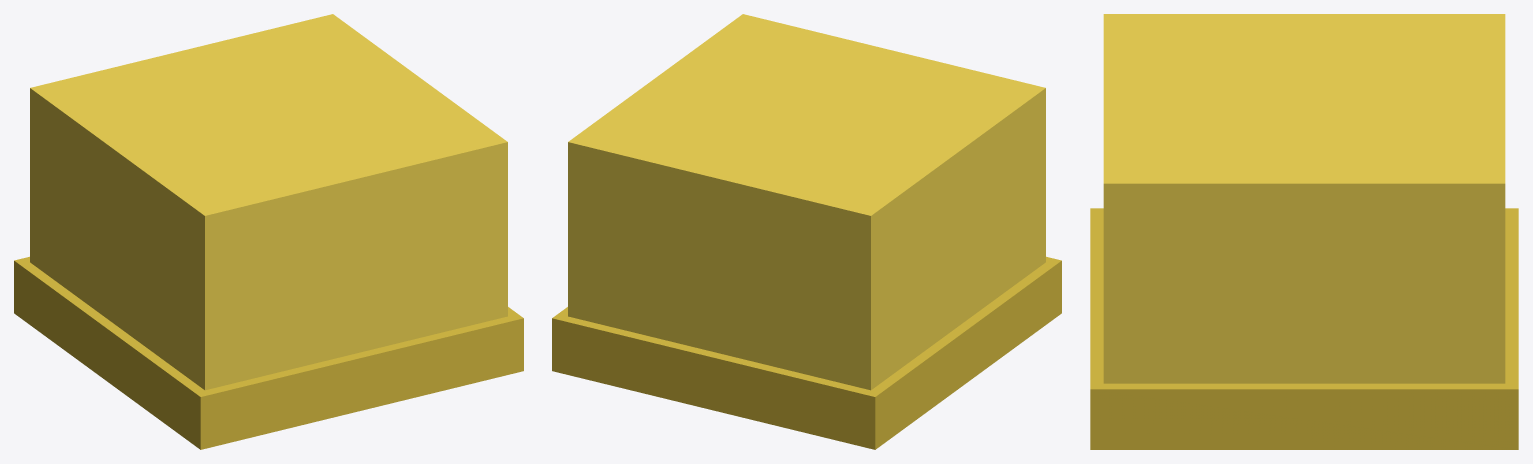
File: capa_chuva_manga_inf.glb
The picture shows the model from 3 angles, left to right: view 1: azimuth 30°, elevation 25°; view 2: azimuth 150°, elevation 25°; view 3: azimuth 270°, elevation 25°; orthographic projection. The views are drawn at different scales.
Visible parts, largest first — view 1: capa_chuva_manga_inf; view 2: capa_chuva_manga_inf; view 3: capa_chuva_manga_inf.
Part boxes in pixels (box(x1,y1,x2,y2)): capa_chuva_manga_inf: box(14, 14, 523, 449); capa_chuva_manga_inf: box(552, 14, 1061, 449); capa_chuva_manga_inf: box(1090, 14, 1518, 449).
Size of the model in its own units: 0.32 by 0.215 by 0.32.
